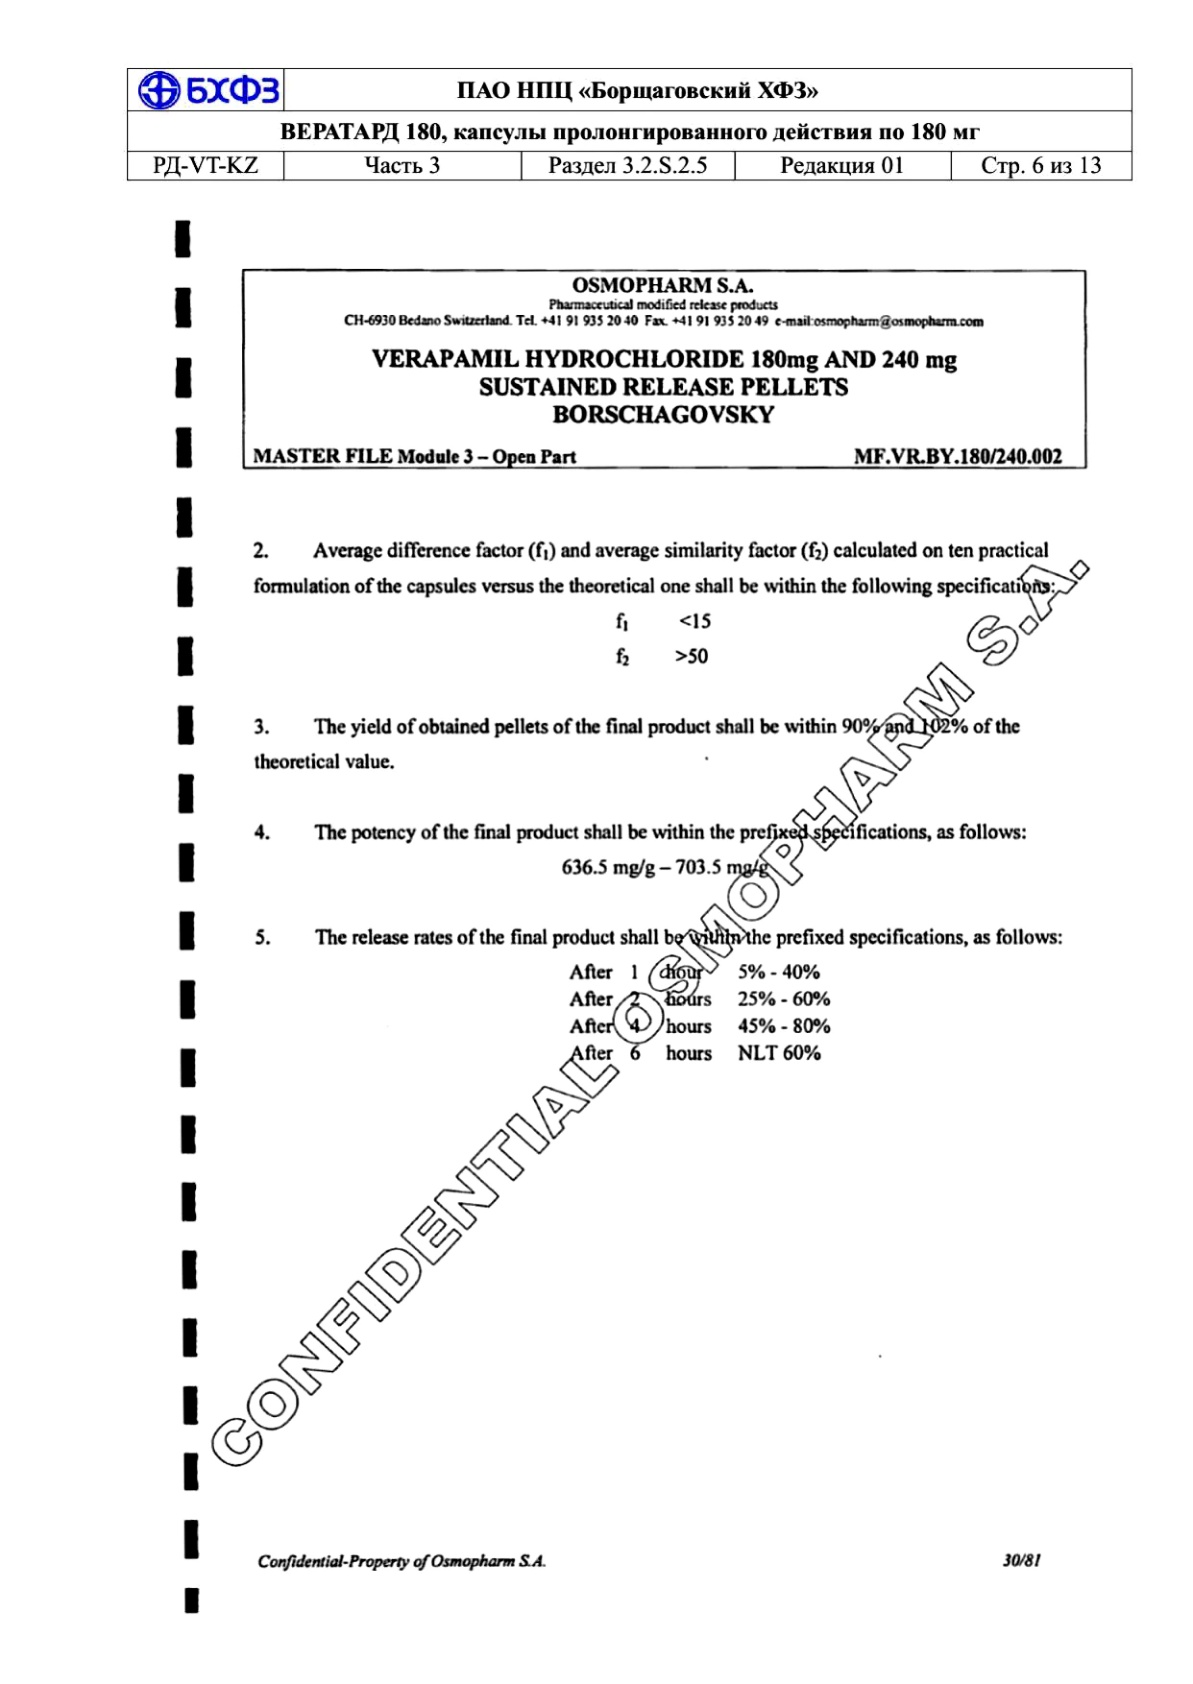merged_cells: (127, 66, 1134, 182)
